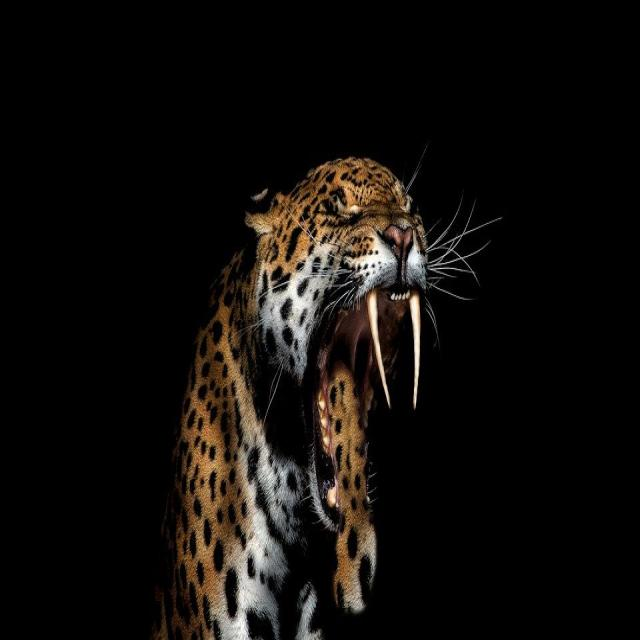Jaguar: (154, 143, 410, 640)
